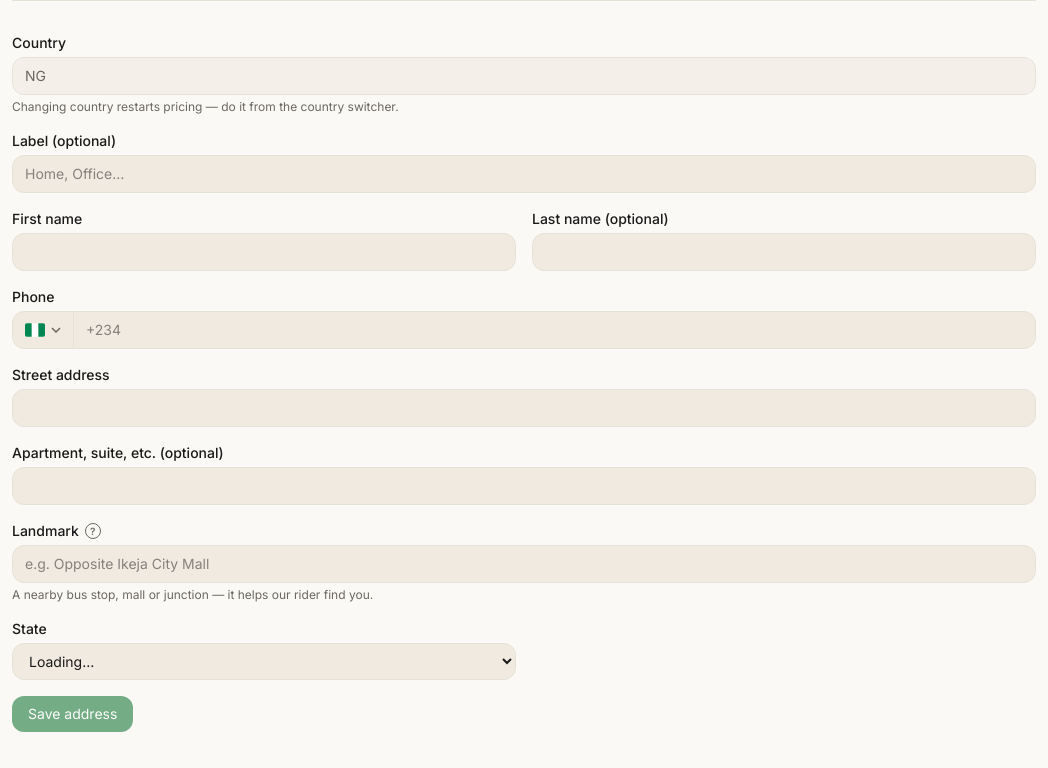
Test case: AddressStep › sends an empty landmark rather than omitting it, so the server owns the refusal
The image size is (1048, 768).
Check: the field labelled "Landmark" is shown, box x1=12 y1=545 x2=1036 y2=583
Type "Ada" into the field labelled "First name" at (264, 252), box x1=12 y1=233 x2=516 y2=271
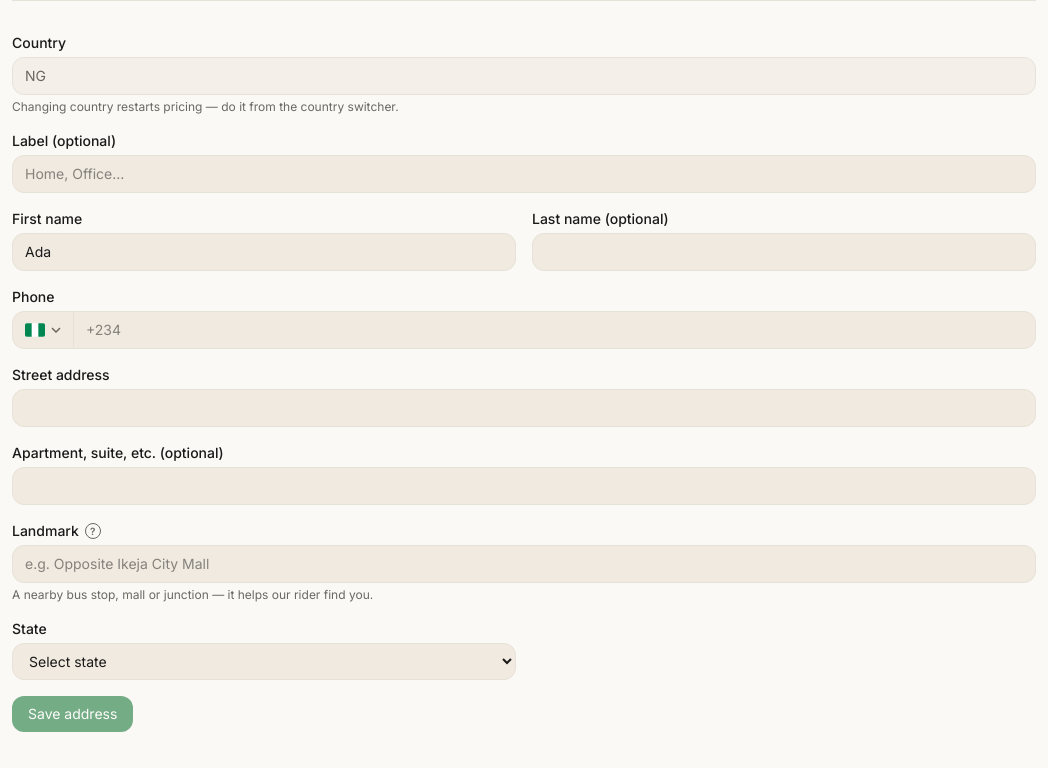
Type "08000000000" into the field labelled "Phone" at (554, 330), box x1=74 y1=312 x2=1035 y2=348
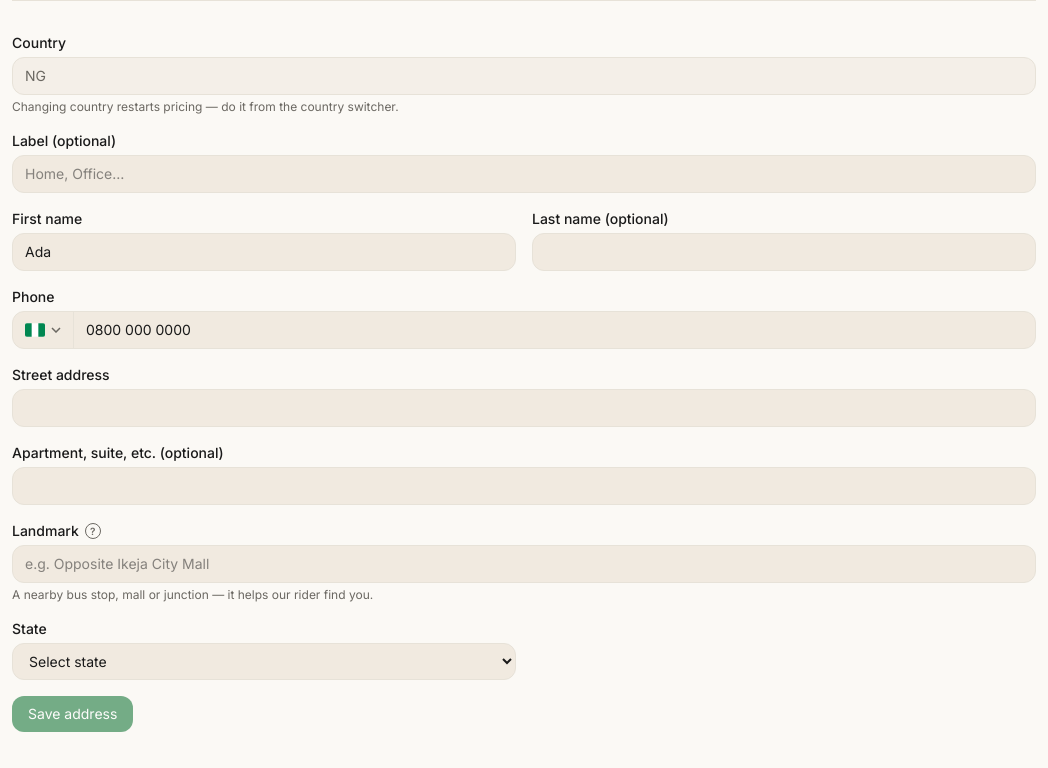
Type "12 Allen Avenue" into the dropdown labelled "Street address" at (524, 408), box x1=12 y1=389 x2=1036 y2=427
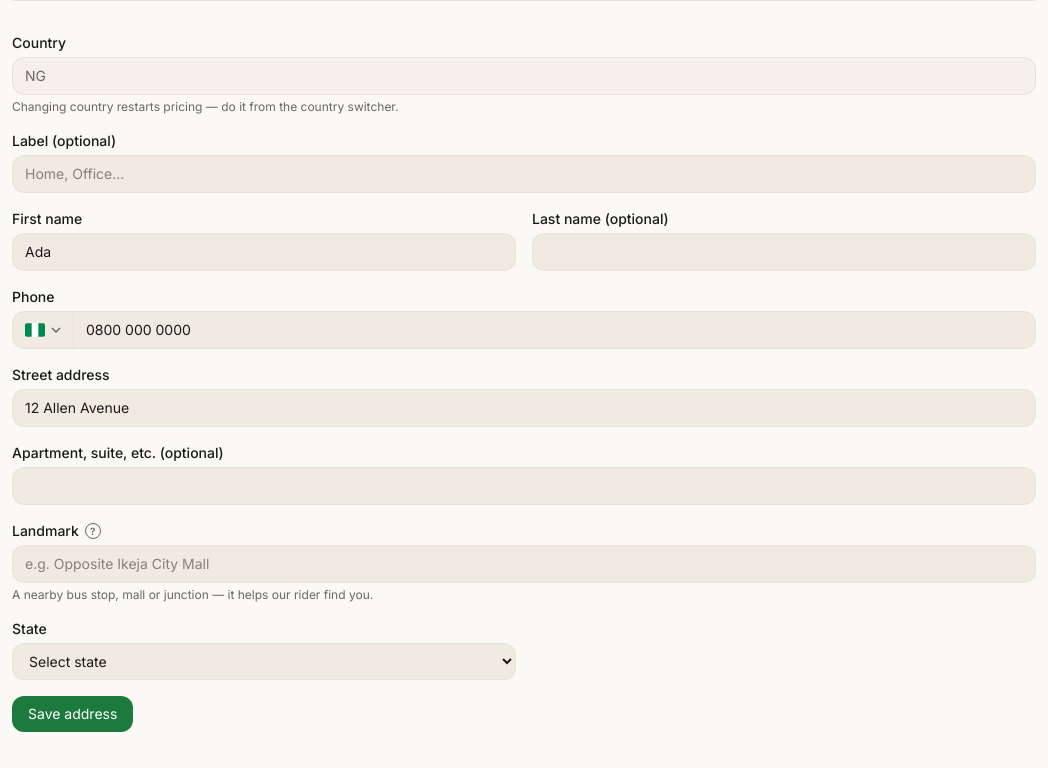
Select "Lagos" in the dropdown labelled "State" at (264, 662), box x1=12 y1=643 x2=516 y2=680
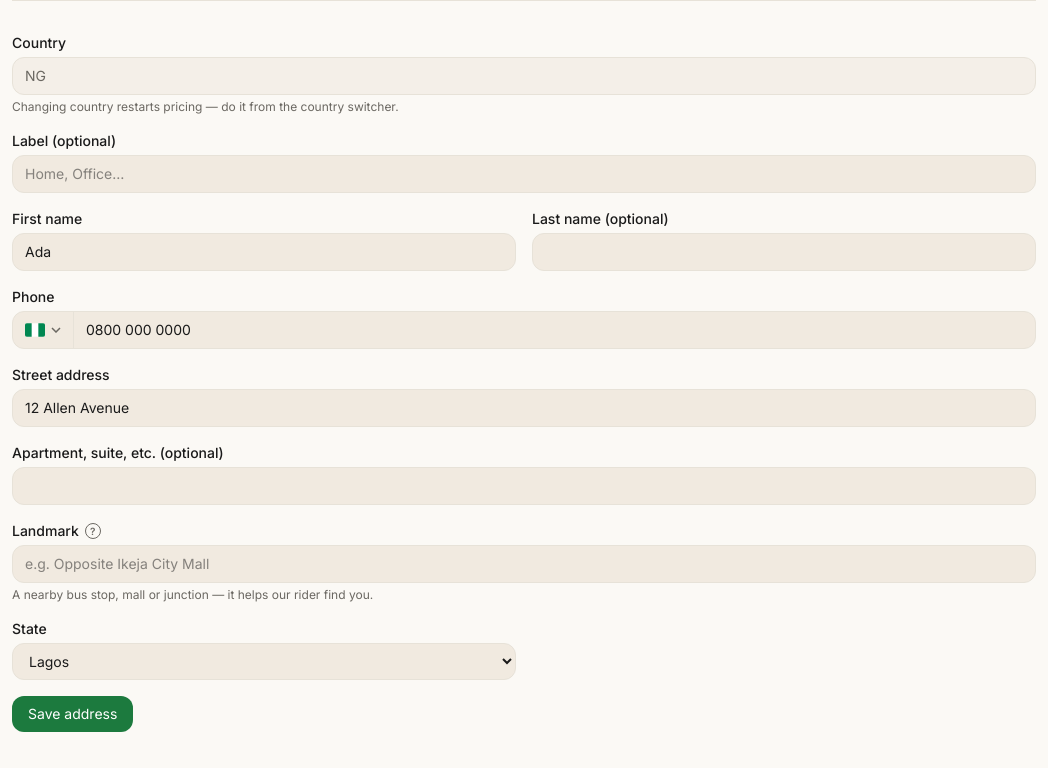
Click the button "Save address" at (73, 714), box x1=12 y1=696 x2=133 y2=732
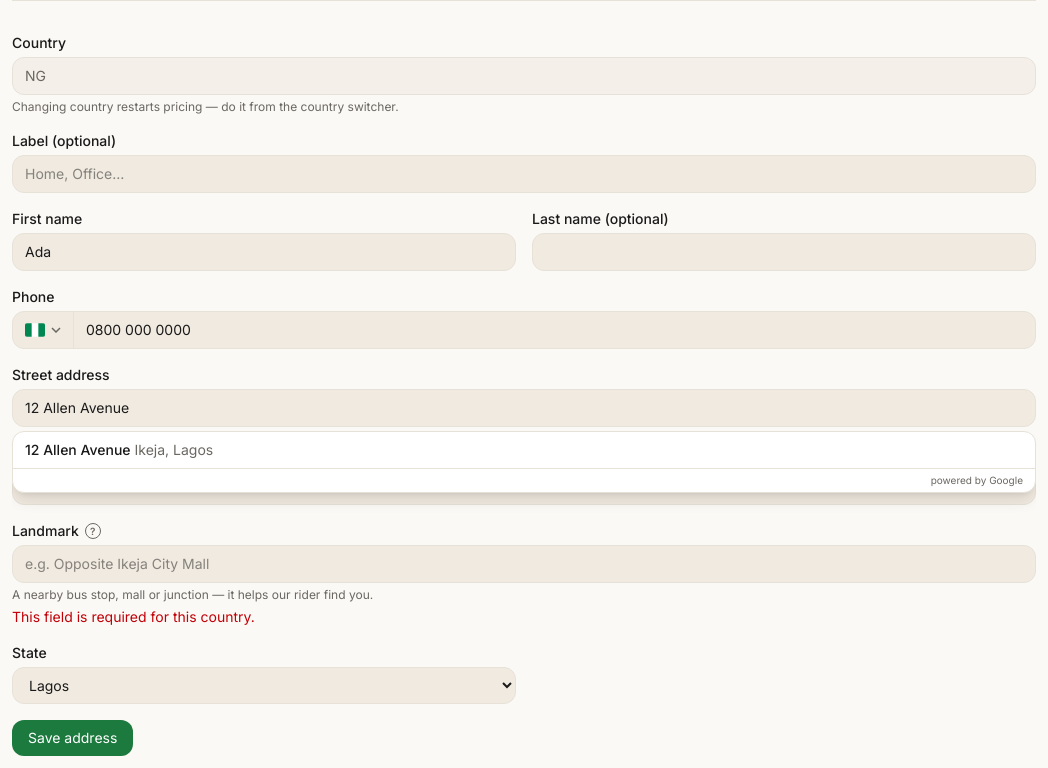
Check: the message shows "required for this country", box x1=12 y1=608 x2=255 y2=625
